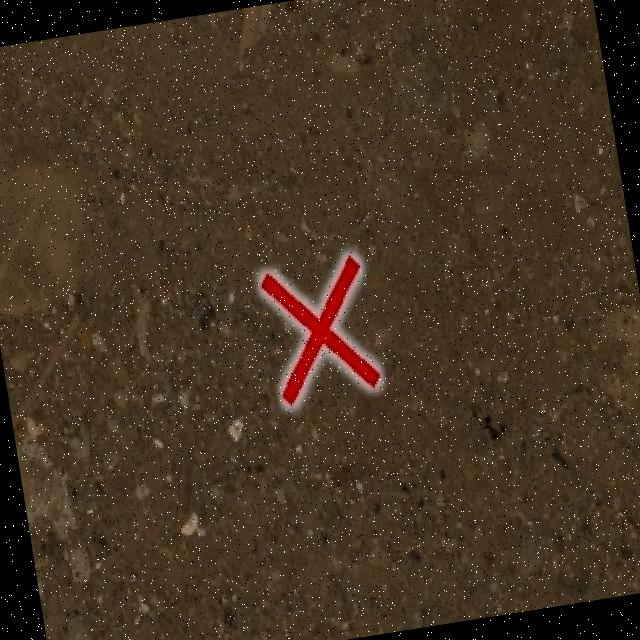x_marker: (258, 253, 380, 406)
